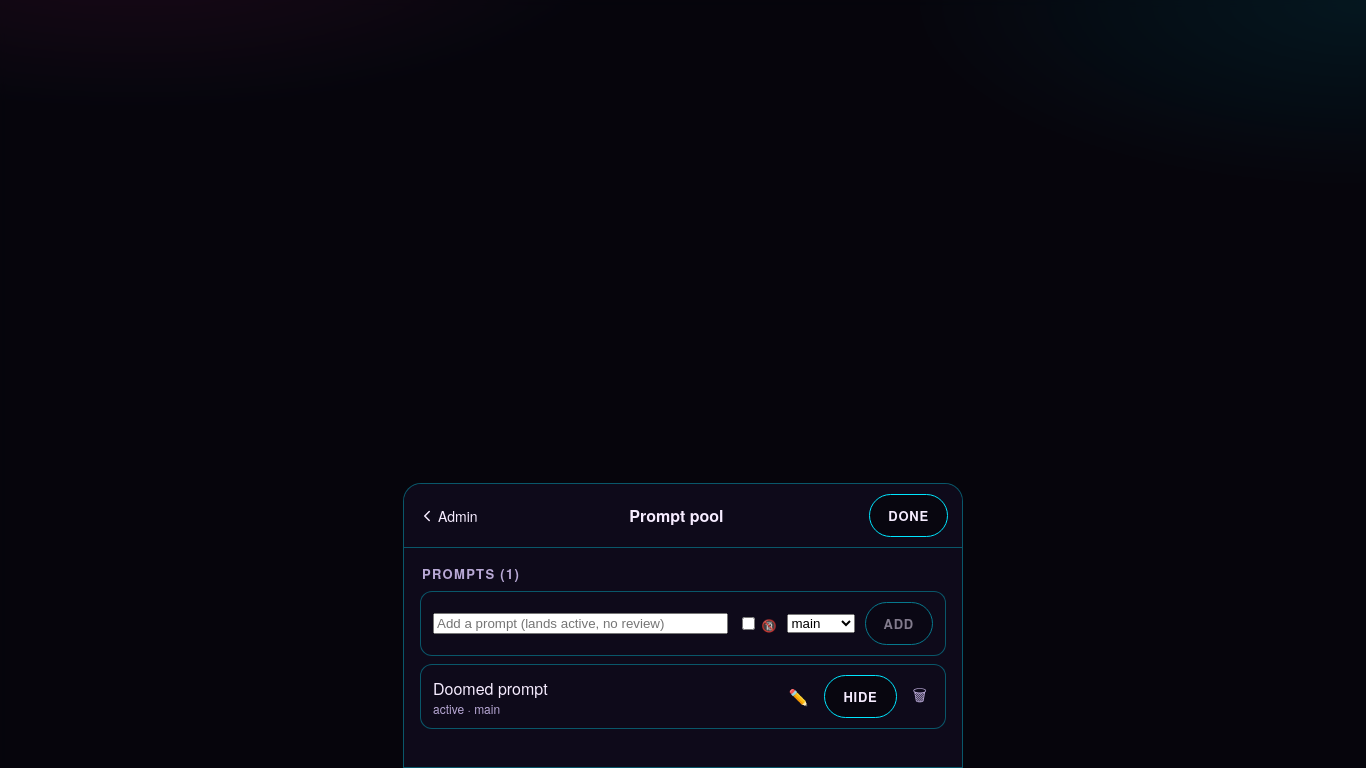
Test: AsyncButton affordance on moderation actions (specs/admin-async-feedback.md) › a rejected delete shows the inline alert pill; retrying after the failure clears it on success
Click the button titled "Delete". click: [920, 696]
box: 907,676 -> 933,716
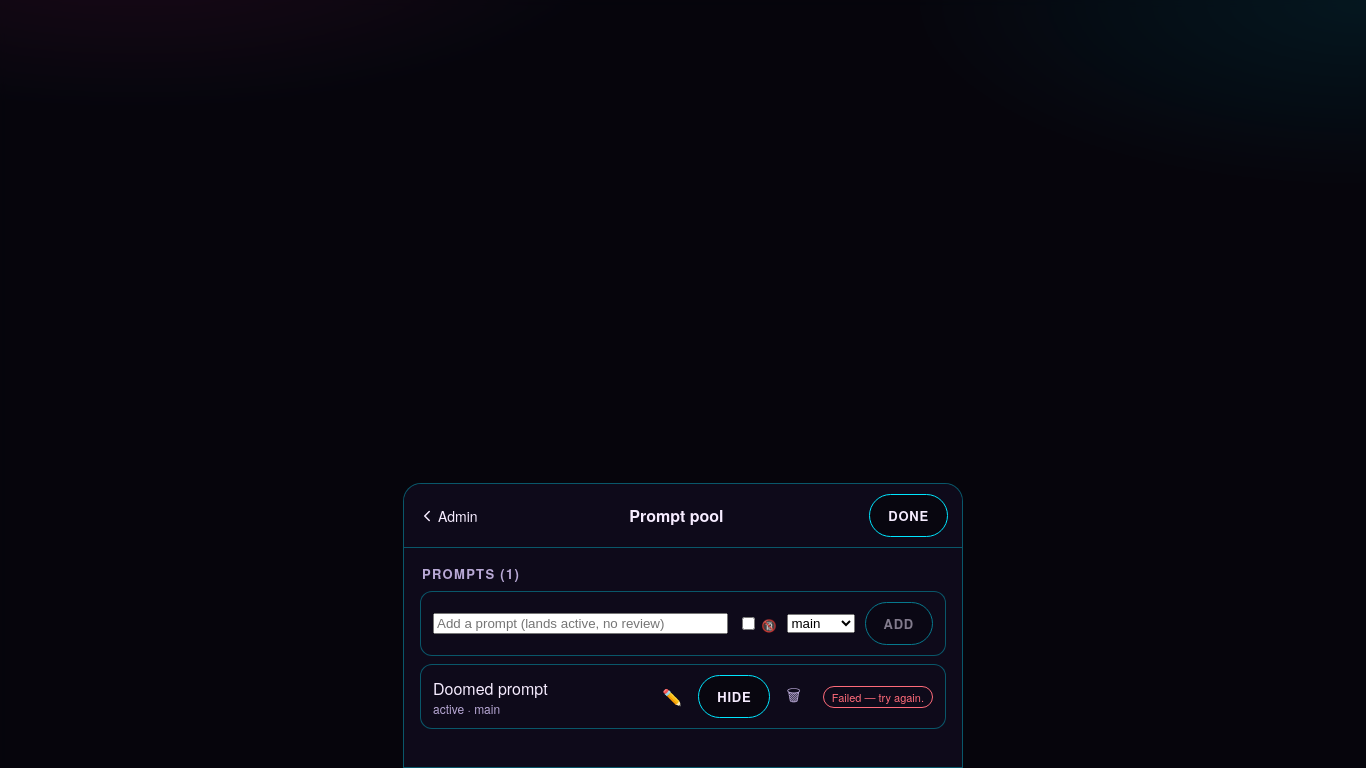
Expected: the message reads "Failed — try again.", 832,688 -> 924,704
# The button re-enabled — a retry fires the write again and clears the pill.
Click the button titled "Delete". click: [794, 696]
box: 780,676 -> 807,716
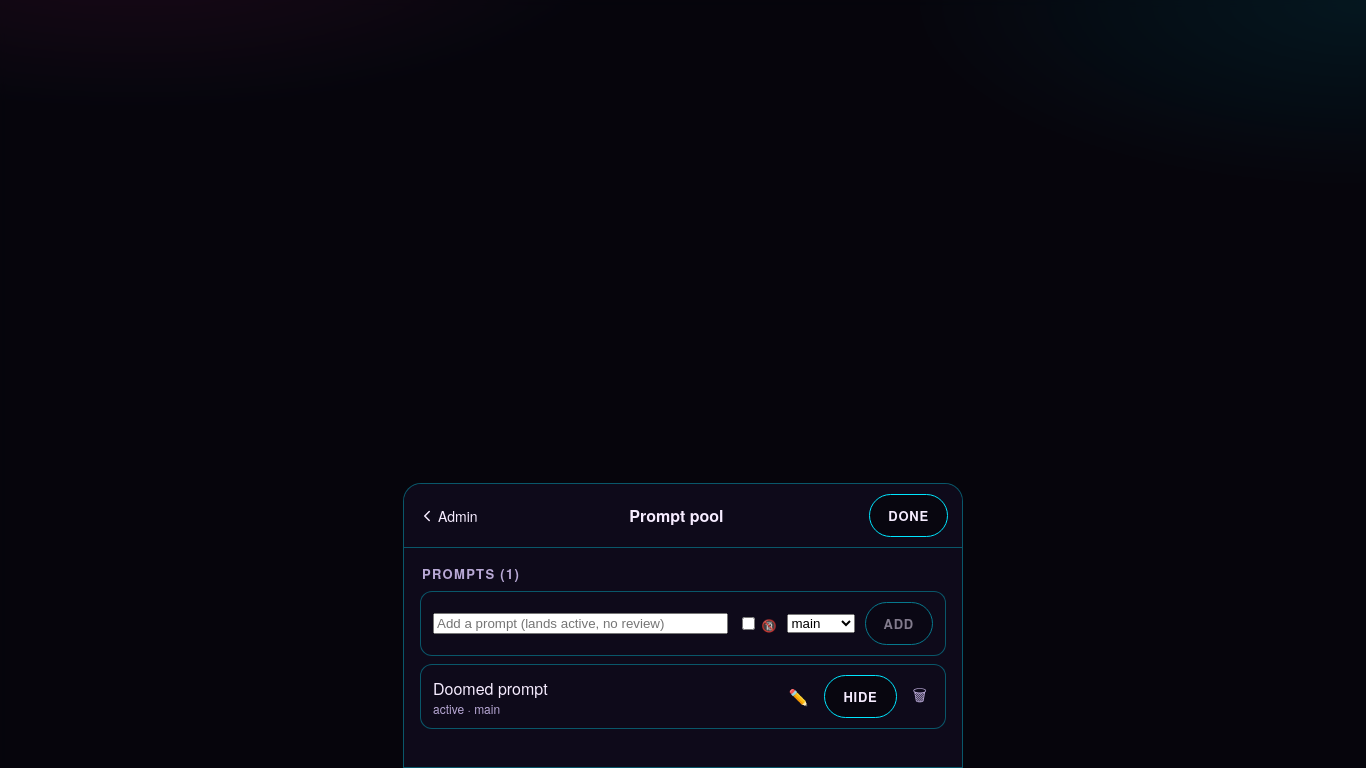
Expected: the message "Failed — try again." is gone
